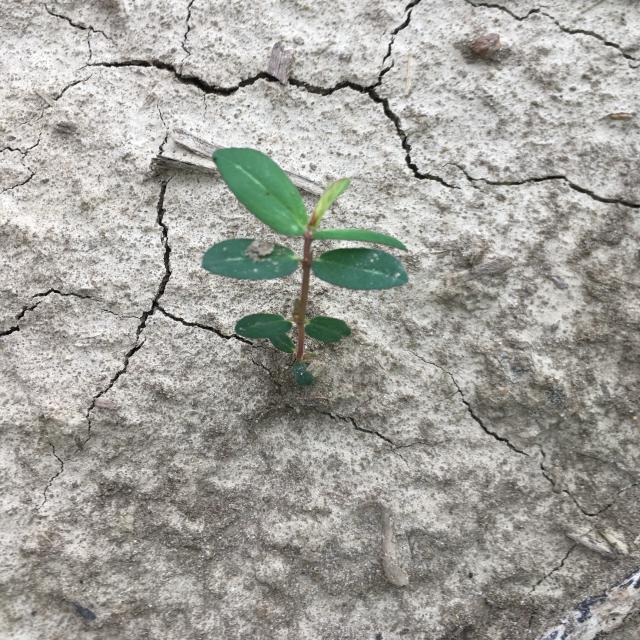SpottedSpurge: (202, 148, 409, 388)
